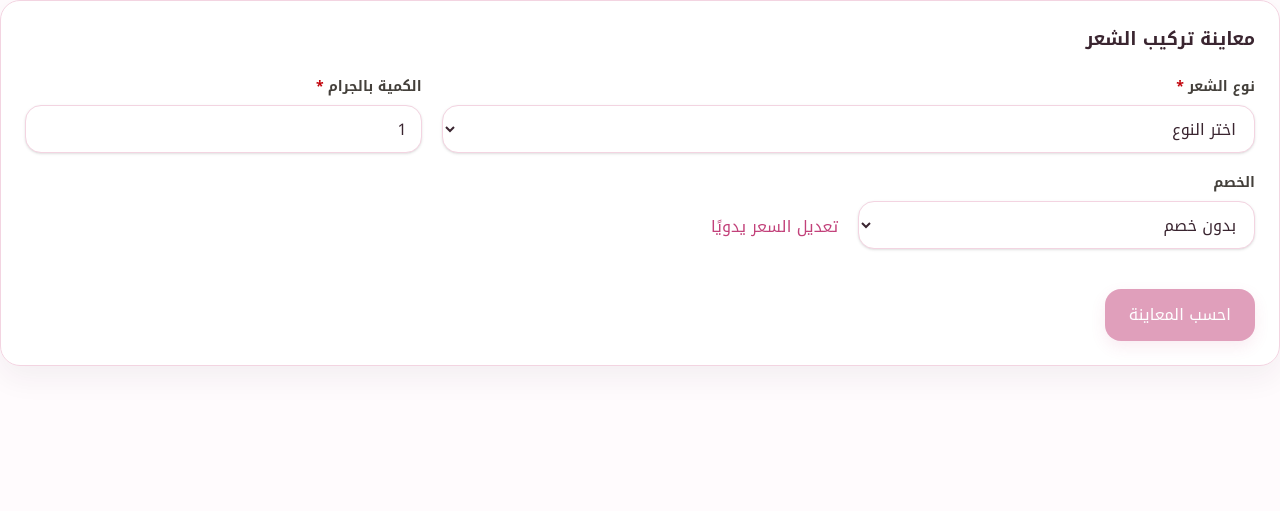
Scenario: معاينة تركيب الشعر › لا يسمح بالحساب قبل اكتمال البيانات ويخفي التعديل اليدوي حتى يطلبه المالك
This screenshot has width=1280, height=511.
Expected: the button "احسب المعاينة" is disabled, 1105,289 -> 1255,341
Expected: the field labelled "السعر اليدوي" is not shown
Select "شعر طبيعي — A — 20" in the dropdown labelled "نوع الشعر*". click: point(848, 129)
box: 442,105 -> 1255,153
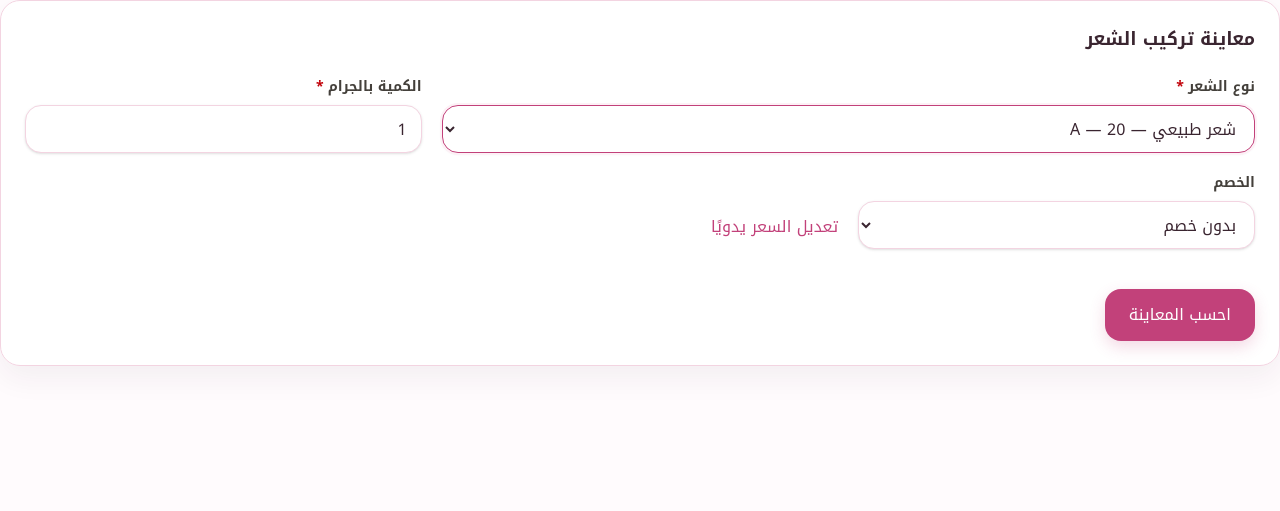
Expected: the button "احسب المعاينة" is enabled, 1105,289 -> 1255,341
Click the button "تعديل السعر يدويًا". click: point(775, 227)
box: 711,205 -> 838,249
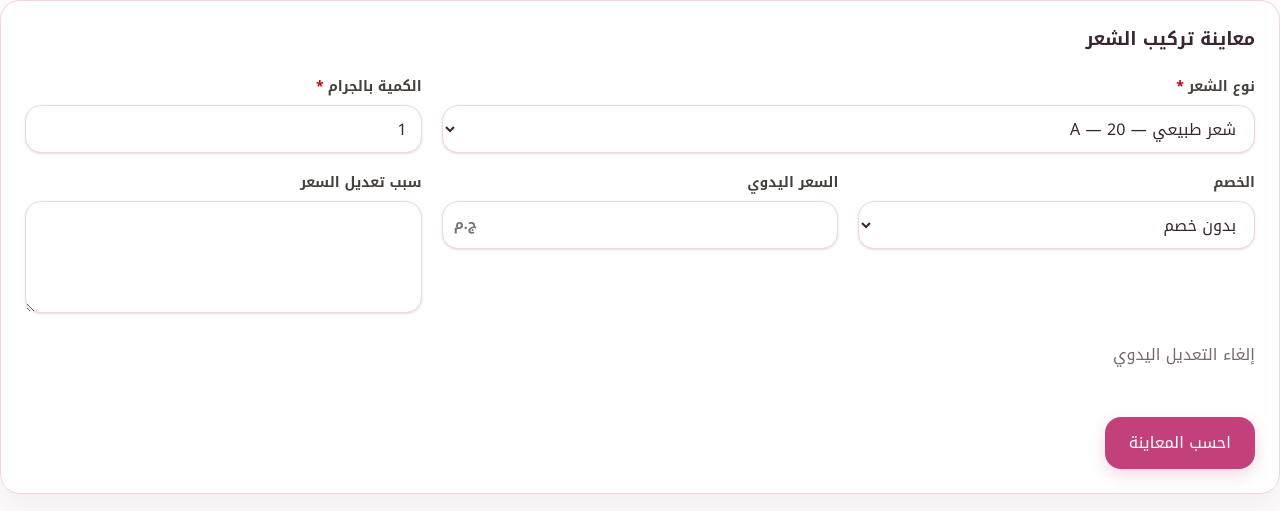
Expected: the field labelled "السعر اليدوي" is shown, 442,201 -> 838,249
